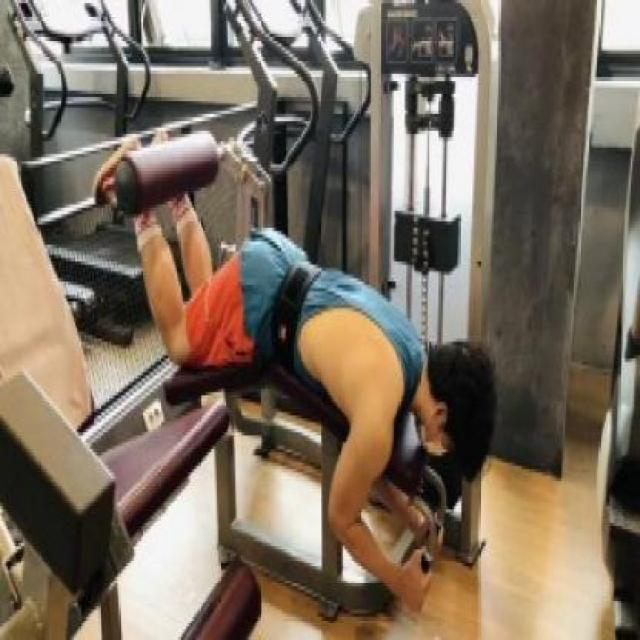reg curl machine: (89, 0, 509, 623)
